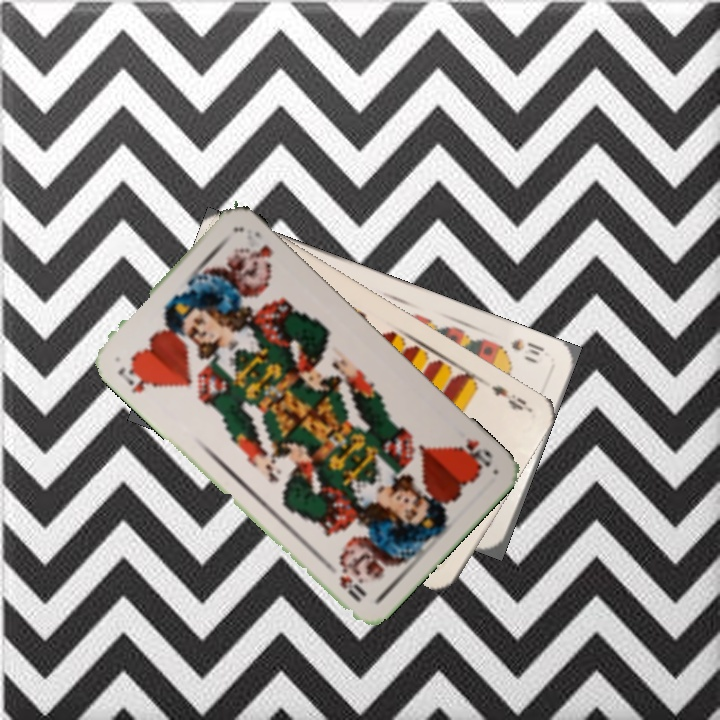E9: (487, 381, 533, 414)
HO: (451, 434, 496, 472), (113, 360, 158, 396)
S10: (506, 334, 547, 367)
